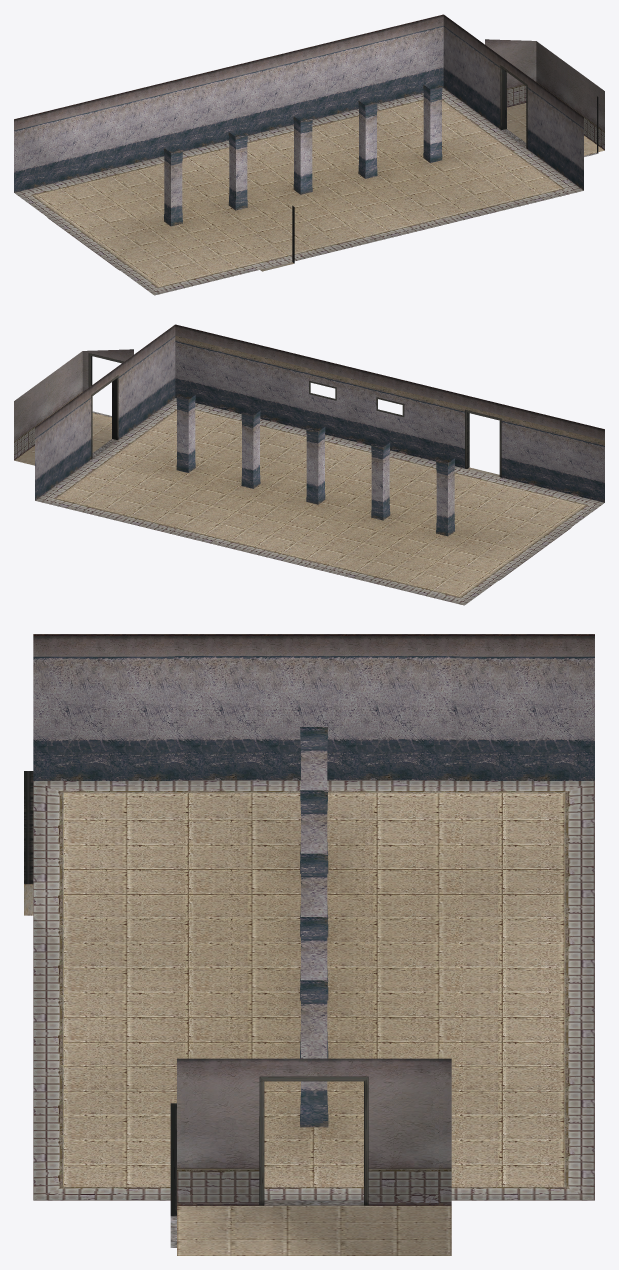
File: Mission10_WareHouseInt01.glb
The picture shows the model from 3 angles, top to bottom: view 1: azimuth 30°, elevation 25°; view 2: azimuth 150°, elevation 25°; view 3: azimuth 270°, elevation 25°; orthographic projection. The views are drawn at different scales.
Parts seen in each view (by area): view 1: MISSION10_WAREHOUSEINT01; view 2: MISSION10_WAREHOUSEINT01; view 3: MISSION10_WAREHOUSEINT01.
Boxes of the visible parts, left/top/right/bottom form: MISSION10_WAREHOUSEINT01: left=14, top=14, right=604, bottom=295; MISSION10_WAREHOUSEINT01: left=14, top=324, right=604, bottom=605; MISSION10_WAREHOUSEINT01: left=24, top=634, right=594, bottom=1255.
Size of the model in its own units: 22.53 by 3.25 by 11.44.
8 materials, 8 textured.
